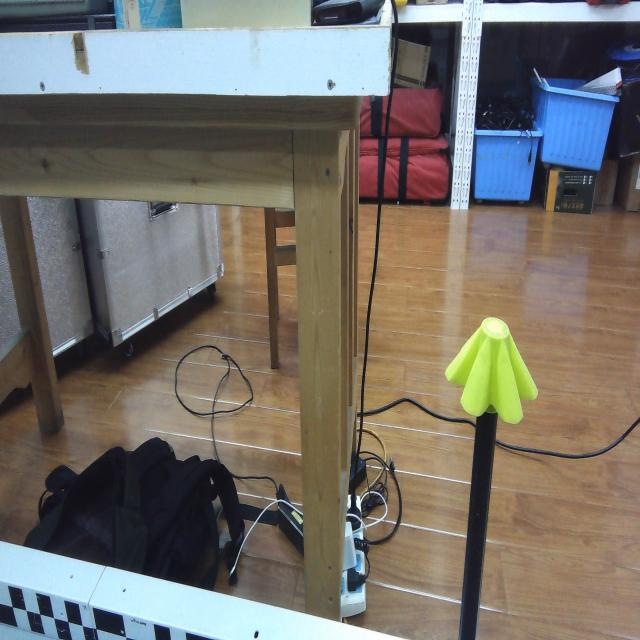Yellow-Stake-Head: (445, 318, 538, 424)
